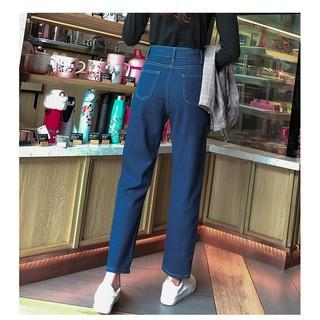pants: (105, 47, 209, 276)
